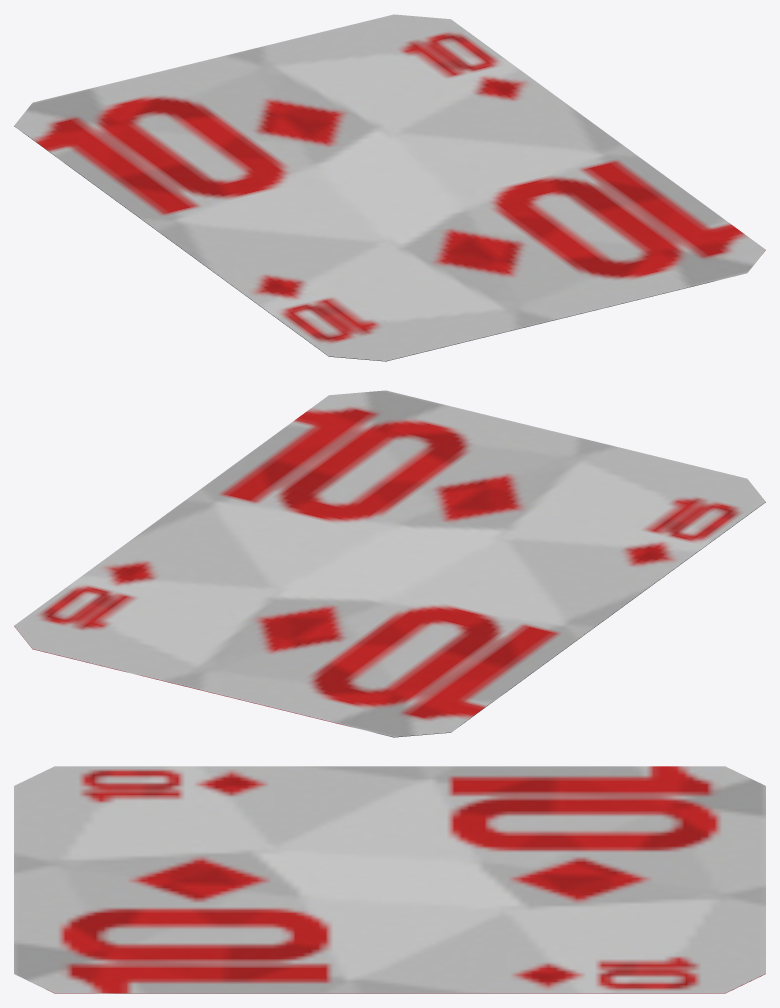
The model's file is PlayingCards_10Diamond.fbx.
3 renders of one model, top to bottom at view 1: azimuth 30°, elevation 25°; view 2: azimuth 150°, elevation 25°; view 3: azimuth 270°, elevation 25°, orthographic. The views are drawn at different scales.
Visible parts, largest first — view 1: PlayingCards_10Diamond; view 2: PlayingCards_10Diamond; view 3: PlayingCards_10Diamond.
Part boxes in pixels (left/top/right/bottom): PlayingCards_10Diamond: left=14, top=14, right=765, bottom=361; PlayingCards_10Diamond: left=14, top=390, right=765, bottom=737; PlayingCards_10Diamond: left=14, top=766, right=765, bottom=993.
Bounding box in the file's own units: 6.35 × 0.00499 × 8.89.
